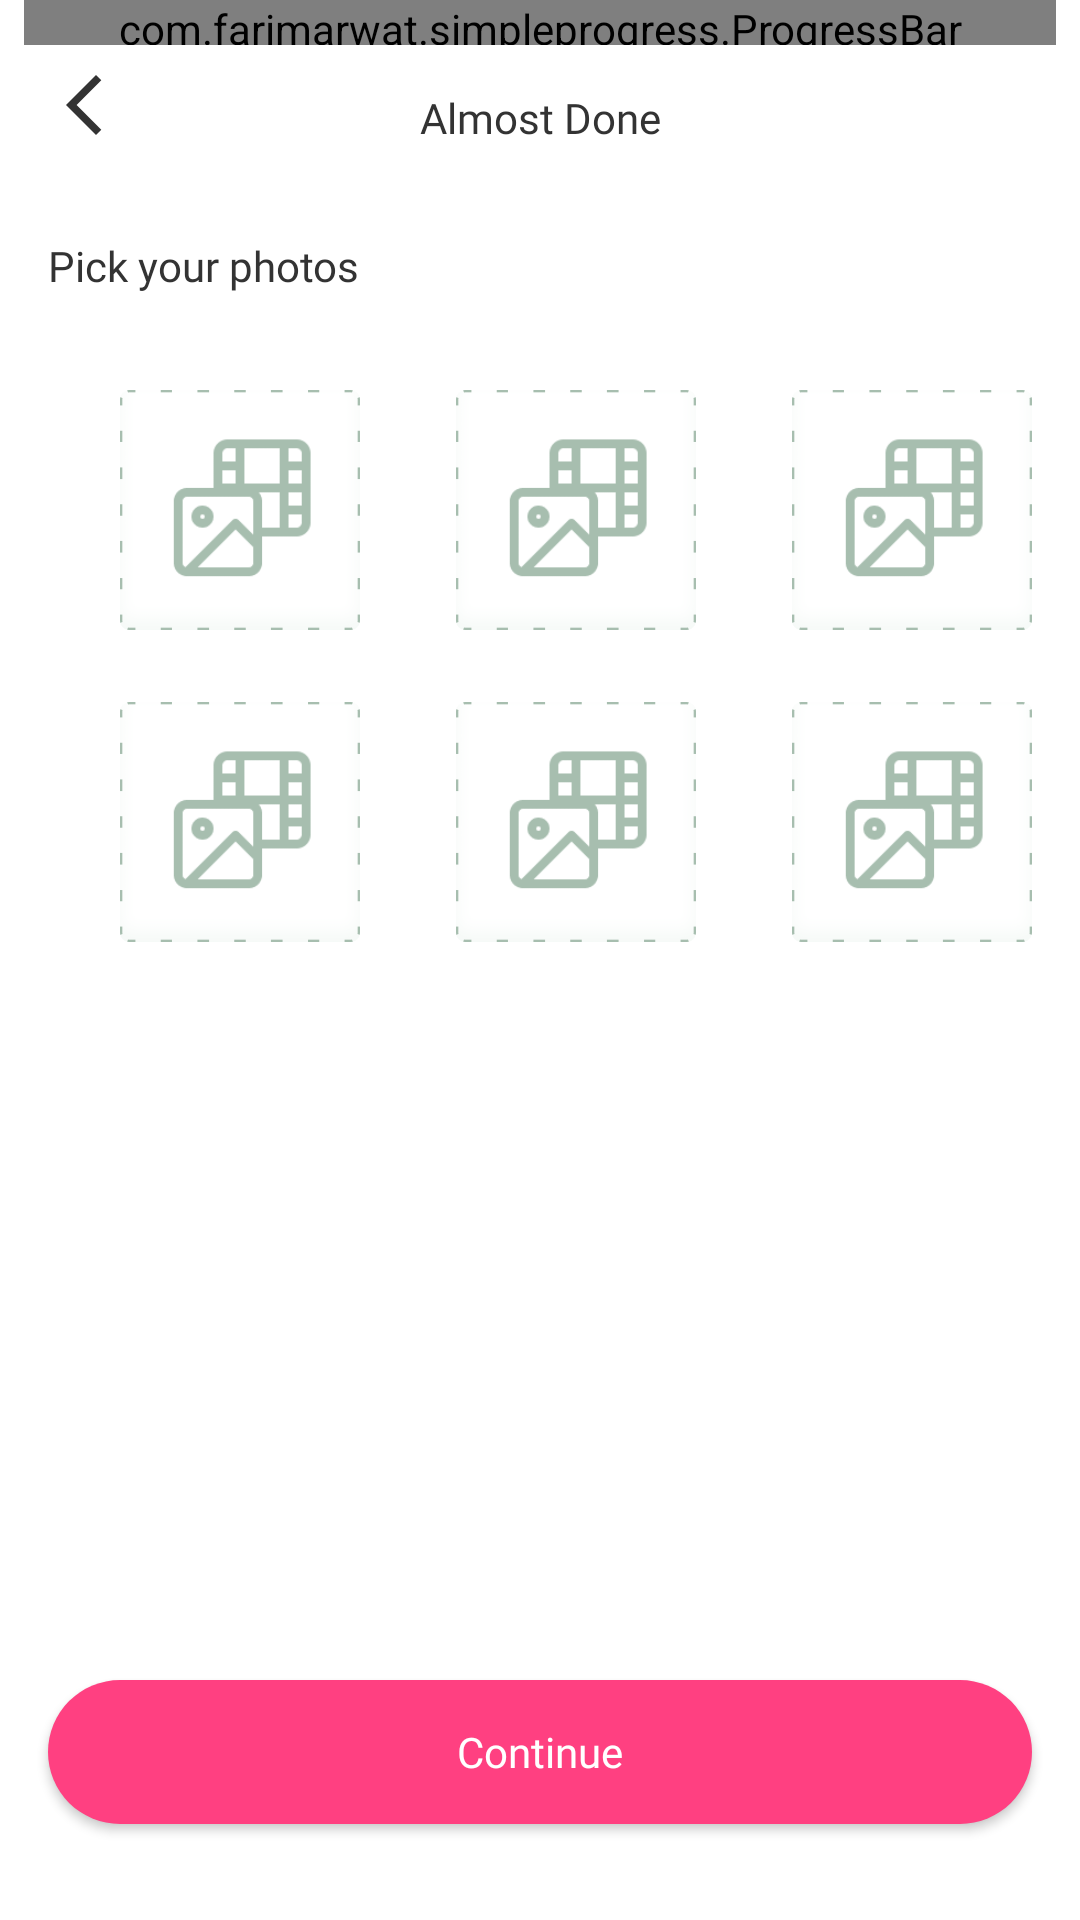

Where icons sit on this 1080×1920 app screen, as detection(x1, y1, x2, y2):
arrow back: detection(66, 75, 101, 135)
